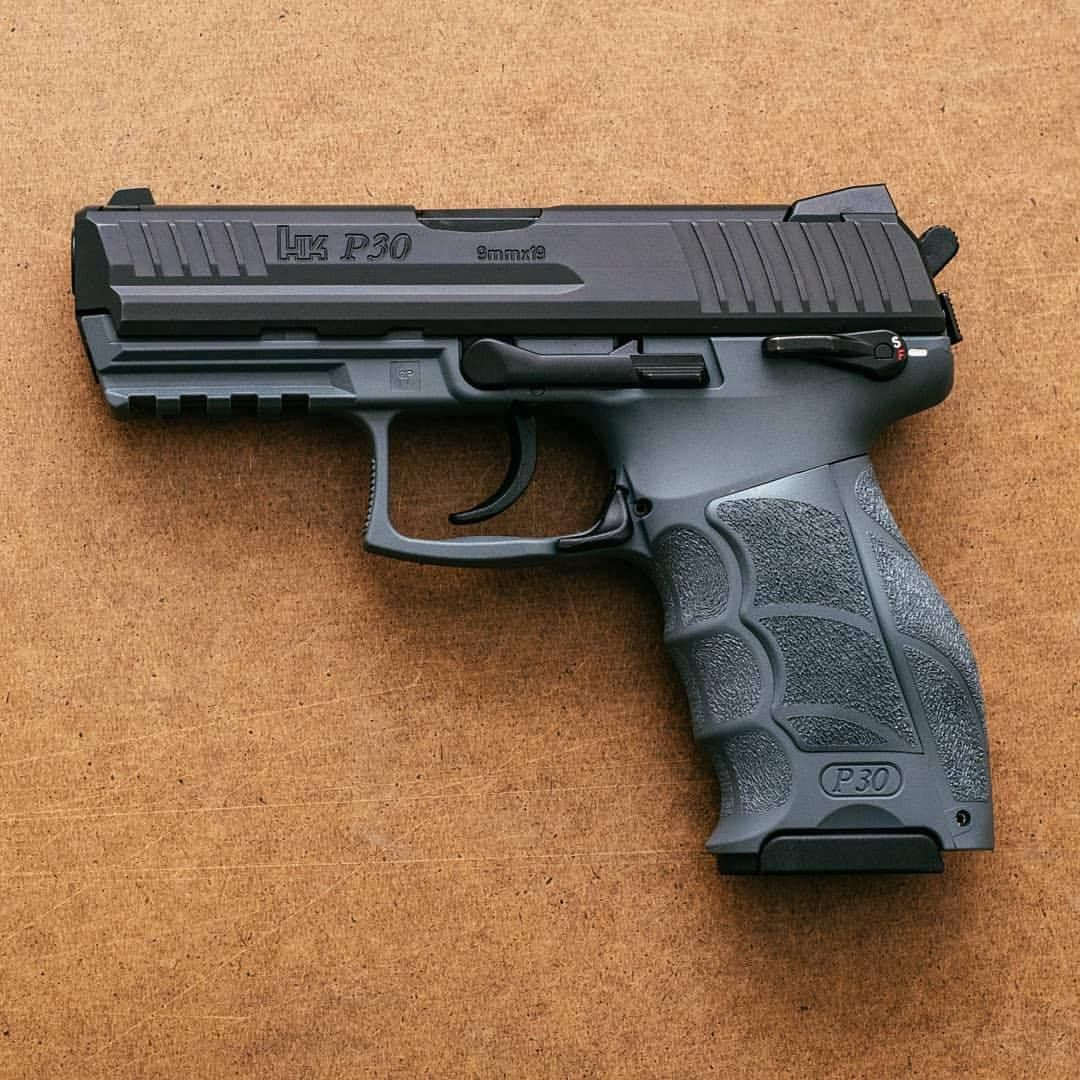gun: (62, 179, 1020, 909)
